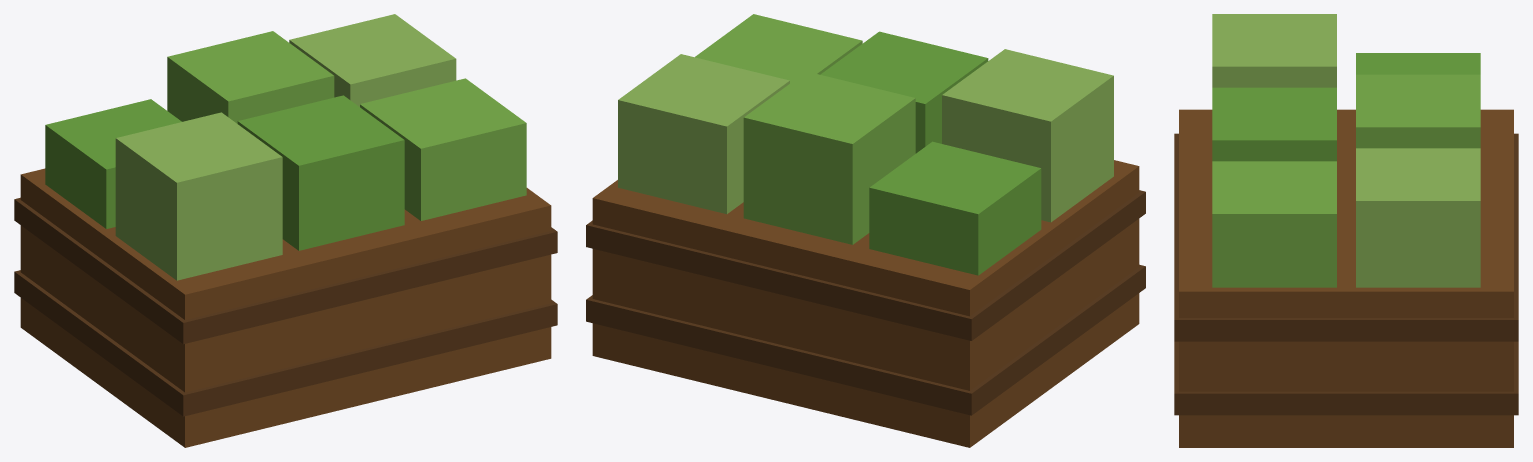
File: cp-crate-cabbage.glb
3 renders of one model, left to right at view 1: azimuth 30°, elevation 25°; view 2: azimuth 150°, elevation 25°; view 3: azimuth 270°, elevation 25°, orthographic. The views are drawn at different scales.
Parts seen in each view (by area): view 1: box-prop; view 2: box-prop; view 3: box-prop.
Boxes of the visible parts, left/top/right/bottom form: box-prop: left=14, top=14, right=557, bottom=447; box-prop: left=586, top=14, right=1145, bottom=447; box-prop: left=1174, top=14, right=1518, bottom=447.
Bounding box in the file's own units: 0.92 × 0.59 × 0.72.
